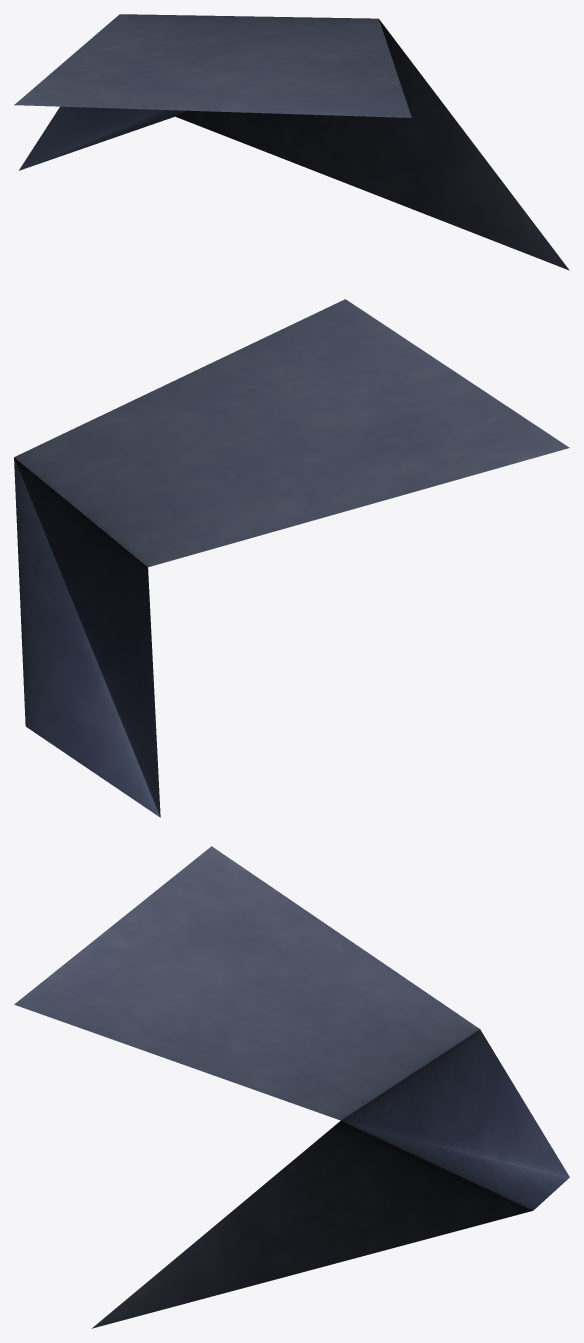
File: SM_Ceiling_Vert_D_A.fbx
The picture shows the model from 3 angles, top to bottom: view 1: azimuth 30°, elevation 25°; view 2: azimuth 150°, elevation 25°; view 3: azimuth 270°, elevation 25°; orthographic projection. The views are drawn at different scales.
Parts seen in each view (by area): view 1: pCube191; view 2: pCube191; view 3: pCube191.
Part boxes in pixels (x1,y1,x2,y2): pCube191: (14, 14, 569, 270); pCube191: (14, 299, 569, 817); pCube191: (14, 846, 569, 1328).
Size of the model in its own units: 0.6243 by 0.2917 by 0.6085.
